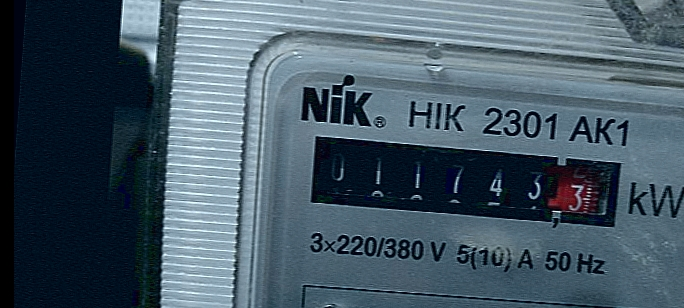0: (326, 147, 348, 184)
1: (409, 154, 427, 189), (372, 151, 385, 185)
3: (523, 165, 544, 202), (566, 181, 586, 215)
4: (486, 163, 505, 198)
7: (447, 159, 467, 194)
screen: (295, 122, 635, 240)
